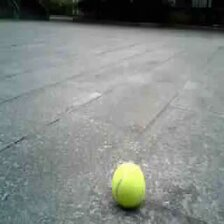tennis: (112, 163, 144, 204)
